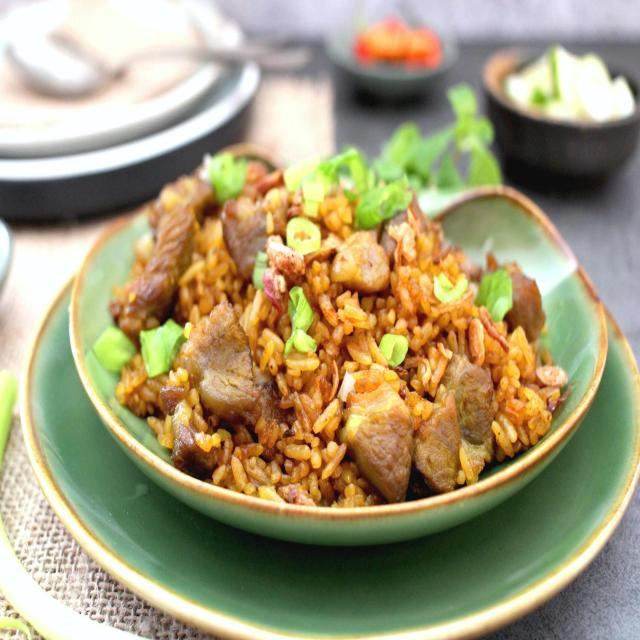Nasi Goreng: (94, 147, 571, 509)
